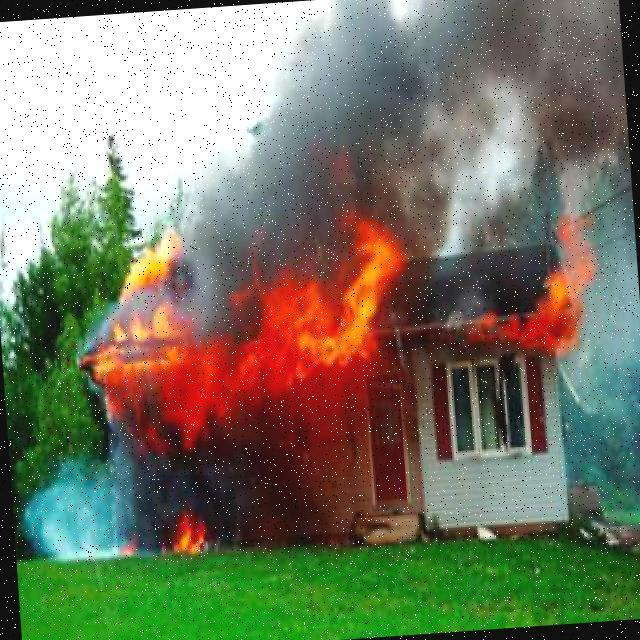Fire: (102, 311, 375, 413), (228, 226, 413, 318), (470, 250, 584, 371), (120, 230, 186, 292), (159, 513, 210, 560)
Smoke: (200, 14, 447, 279), (435, 0, 632, 248), (22, 441, 154, 567)
